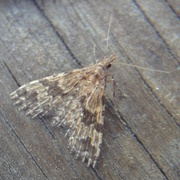Alucitidae: (6, 6, 168, 169)
moth: (4, 4, 166, 167)
